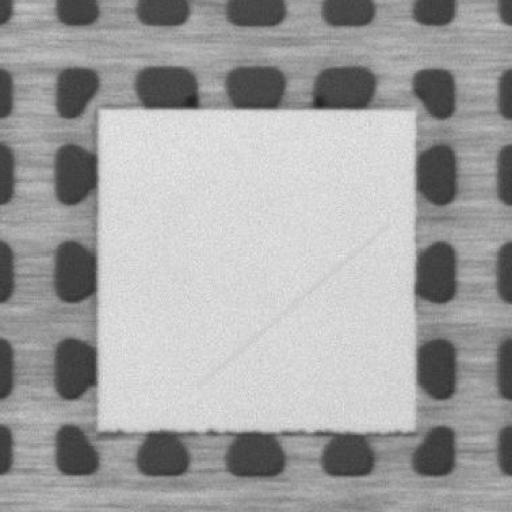DIE_CRACK: (202, 220, 392, 376)
